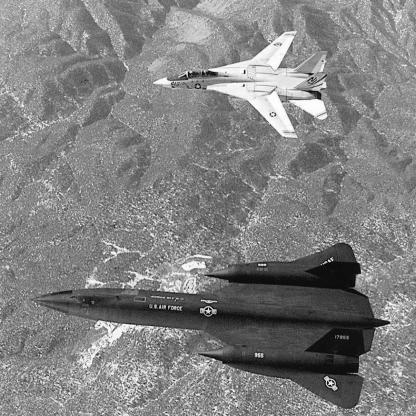F14: (153, 31, 329, 139)
SR71: (30, 243, 392, 410)
